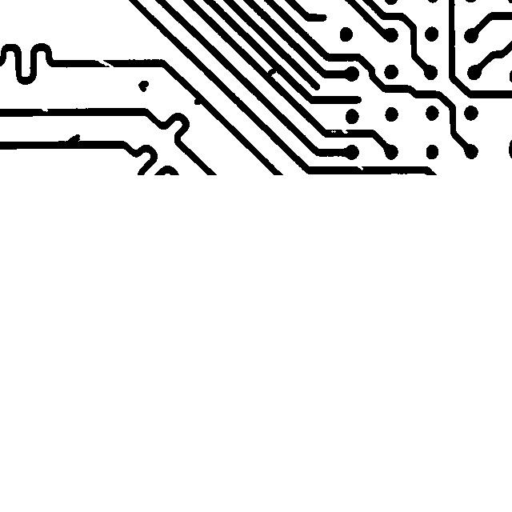copper: (130, 73, 156, 99)
mousebite: (323, 121, 355, 141), (33, 99, 55, 119), (350, 157, 370, 178)
open: (84, 50, 123, 77)
short: (259, 58, 287, 84)
spur: (57, 126, 87, 150), (186, 90, 208, 112)
